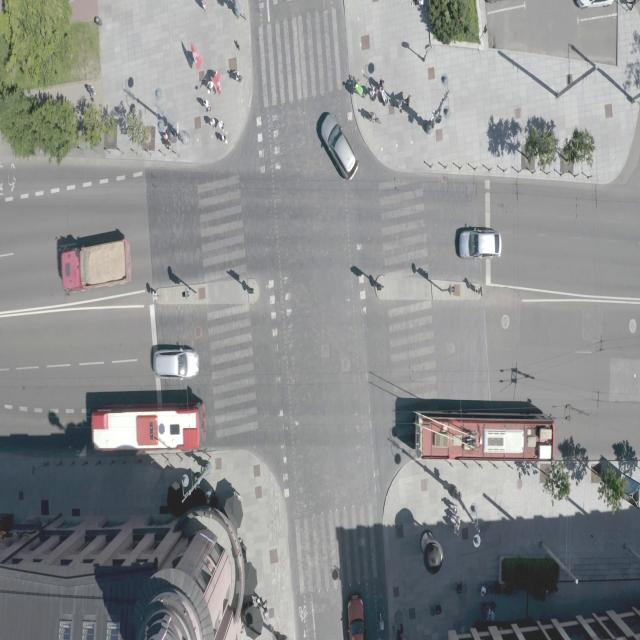Bus: (394, 396, 565, 480), (78, 390, 205, 462)
Car: (313, 97, 364, 194), (446, 220, 514, 273), (142, 337, 206, 386)
Truck: (52, 221, 152, 299)
